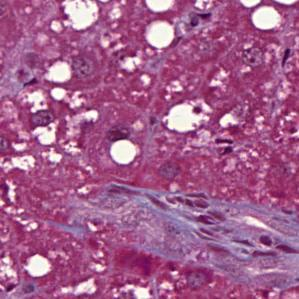ballooning: (162, 99, 214, 135), (59, 4, 101, 33)
